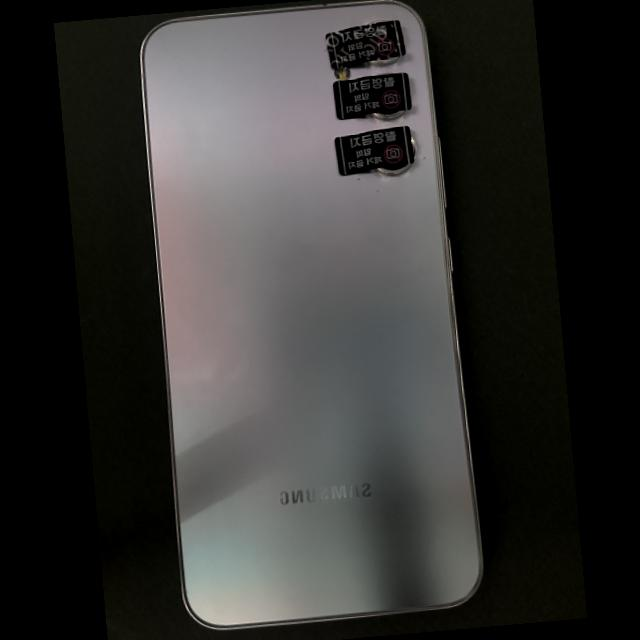lens: (378, 165, 409, 174), (373, 113, 401, 119)
phone: (140, 0, 482, 629)
sticker: (325, 18, 405, 69), (333, 126, 413, 174), (333, 72, 410, 118)
